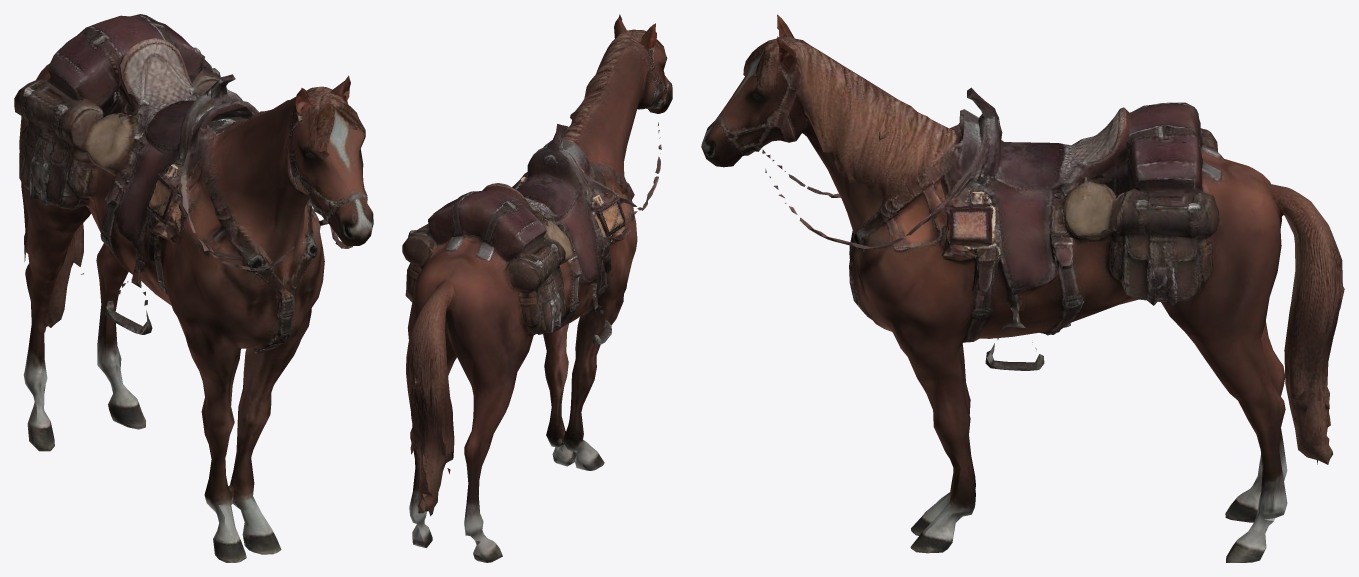
File: horse_saddled_brown_lod0.glb
3 renders of one model, left to right at view 1: azimuth 30°, elevation 25°; view 2: azimuth 150°, elevation 25°; view 3: azimuth 270°, elevation 25°, orthographic. The views are drawn at different scales.
Parts seen in each view (by area): view 1: horse_saddled_brown_lod0; view 2: horse_saddled_brown_lod0; view 3: horse_saddled_brown_lod0.
Part boxes in pixels (left/top/right/bottom): horse_saddled_brown_lod0: left=14, top=14, right=373, bottom=562; horse_saddled_brown_lod0: left=402, top=14, right=672, bottom=562; horse_saddled_brown_lod0: left=701, top=14, right=1344, bottom=562.
Size of the model in its own units: 0.805 by 2.19 by 2.47.
Materials: 1 (1 with a texture image).
